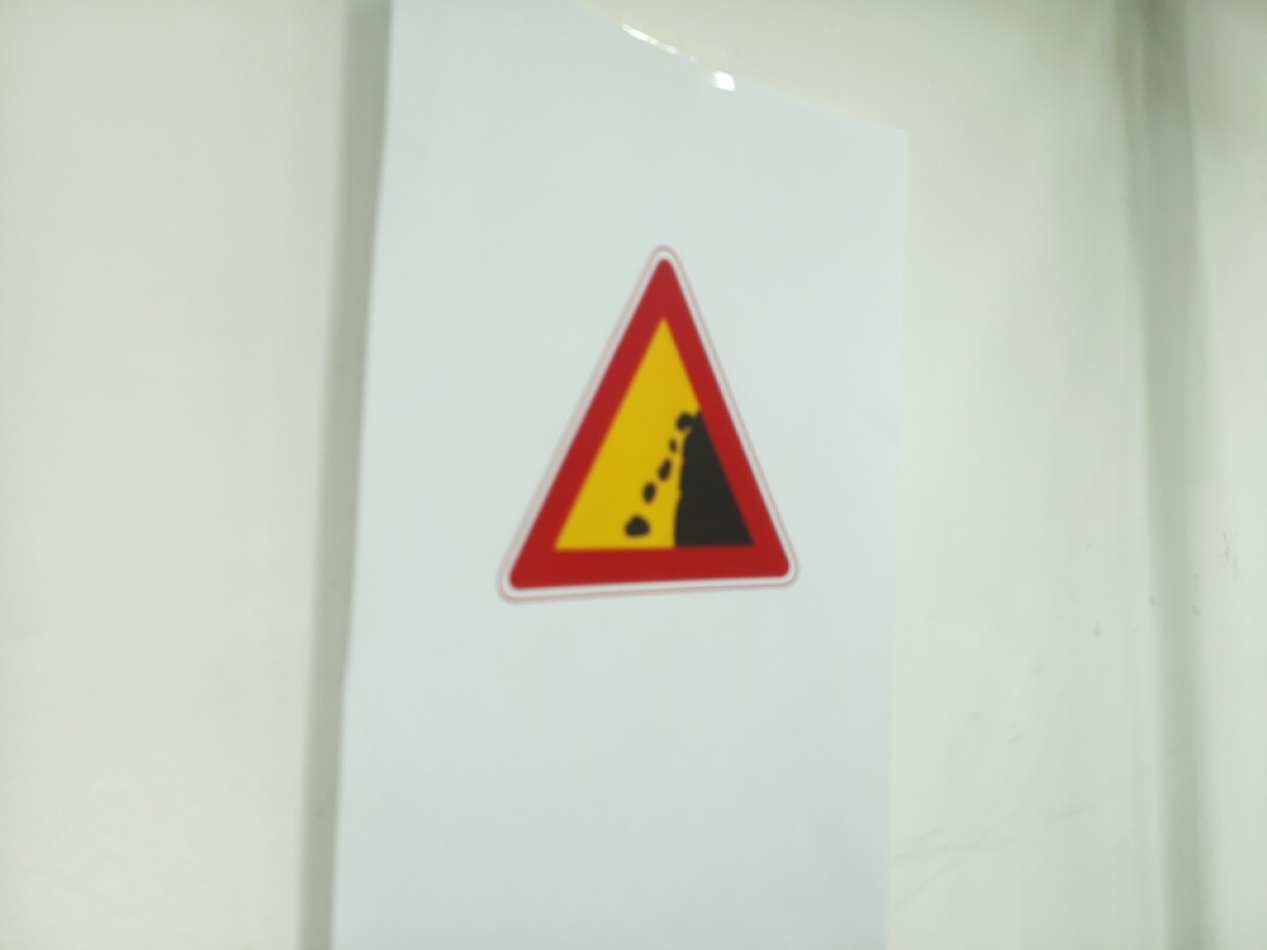falling_rocks: (501, 249, 798, 600)
